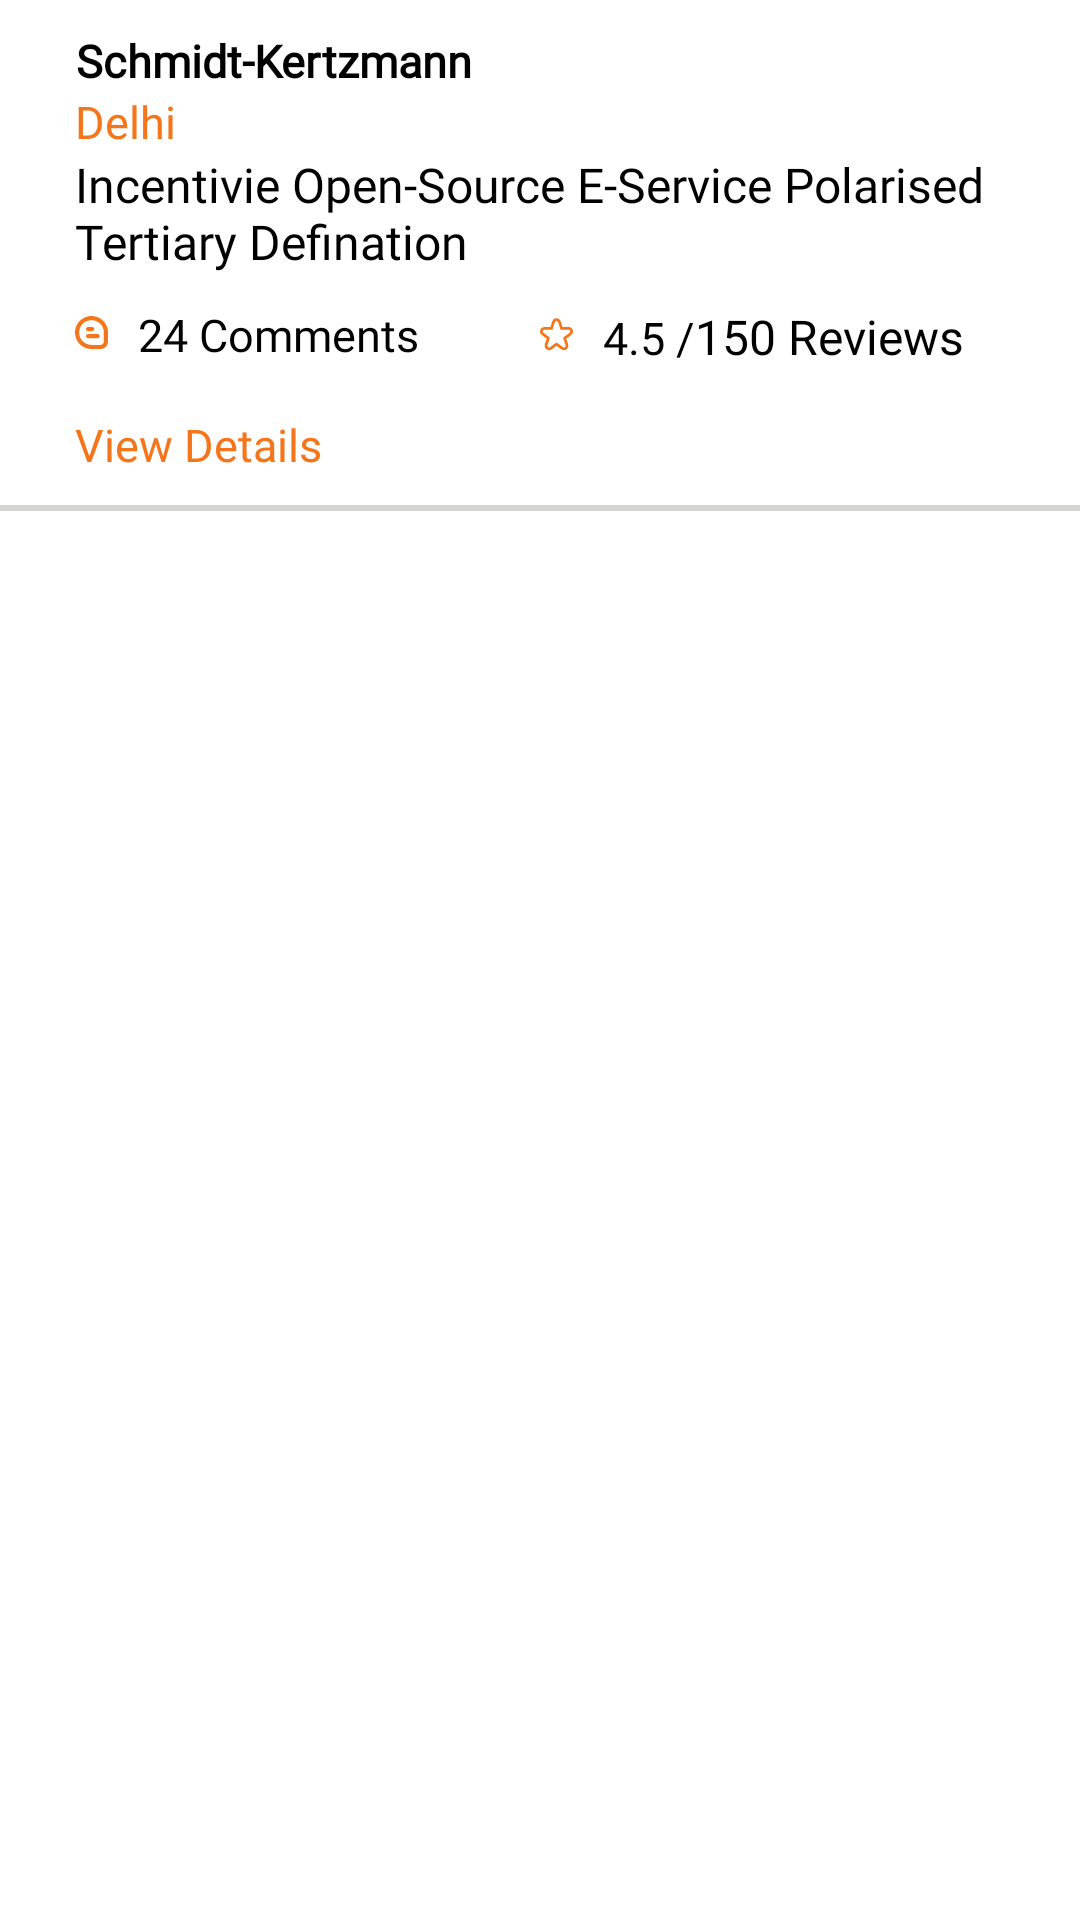

Point at icon controls on the screen. Image size 1080×1920, points as (x=x, y=y).
massage: (x=91, y=332)
start: (x=556, y=334)
